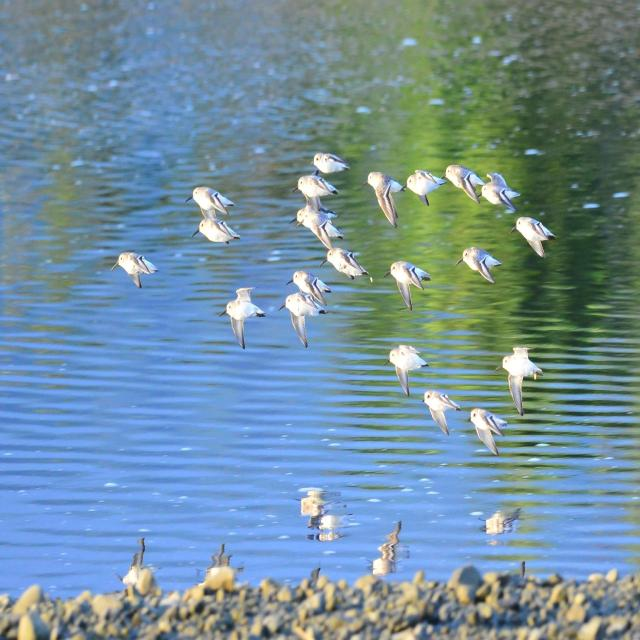bird: (496, 350, 543, 421), (277, 292, 330, 349), (218, 290, 269, 349), (193, 189, 243, 246), (447, 170, 516, 211), (290, 184, 337, 243), (364, 520, 404, 585), (311, 241, 370, 283), (366, 170, 406, 230), (295, 152, 349, 194), (385, 346, 431, 394), (120, 536, 158, 592), (388, 263, 430, 311), (105, 252, 158, 289), (280, 269, 334, 303), (516, 218, 558, 260), (468, 411, 506, 456), (207, 542, 243, 588), (421, 392, 460, 434), (459, 249, 502, 287), (401, 169, 443, 205), (477, 508, 520, 541), (296, 488, 330, 526)
